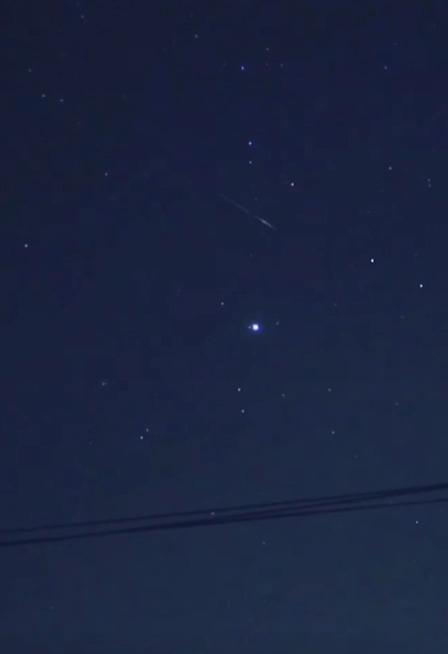meteorite: (219, 198, 290, 239)
